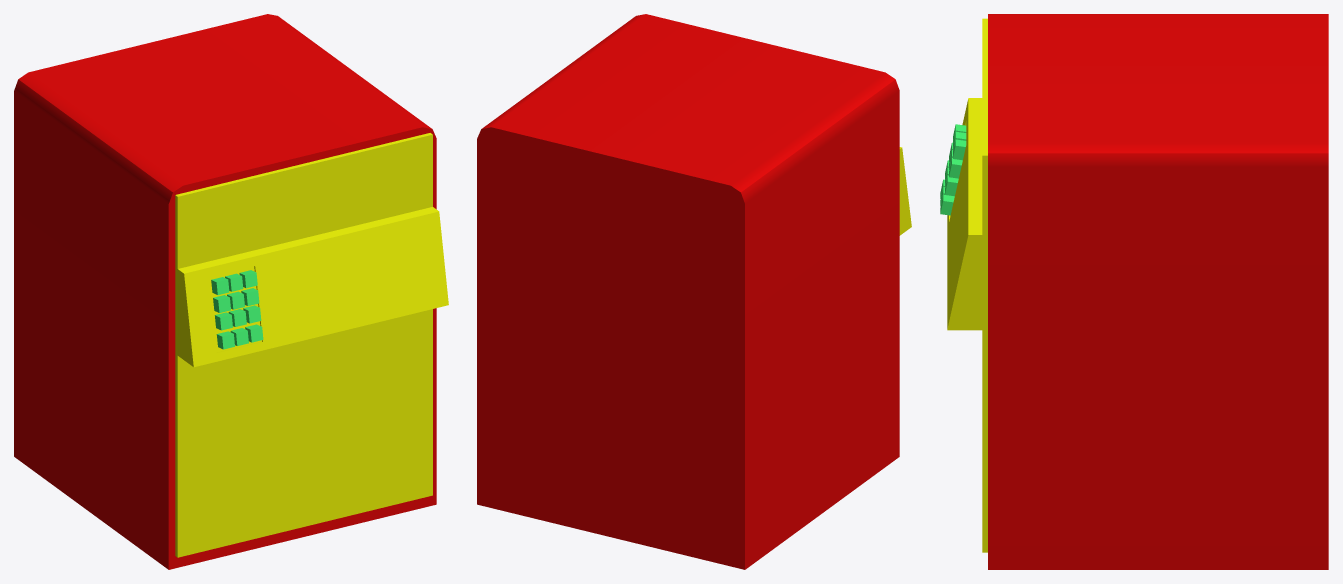
Rendered from Safe.fbx.
The picture shows the model from 3 angles, left to right: view 1: azimuth 30°, elevation 25°; view 2: azimuth 150°, elevation 25°; view 3: azimuth 270°, elevation 25°; orthographic projection. The views are drawn at different scales.
Parts seen in each view (by area): view 1: polySurface1, pCube1; view 2: polySurface1, pCube1; view 3: polySurface1, pCube1.
Part boxes in pixels (x1,y1,x2,y2): polySurface1: (14, 14, 436, 569); pCube1: (175, 133, 448, 557); polySurface1: (477, 14, 899, 569); pCube1: (899, 147, 911, 235); polySurface1: (988, 14, 1328, 569); pCube1: (947, 18, 987, 552).
Size of the model in its own units: 2.23 by 3.03 by 2.54.
